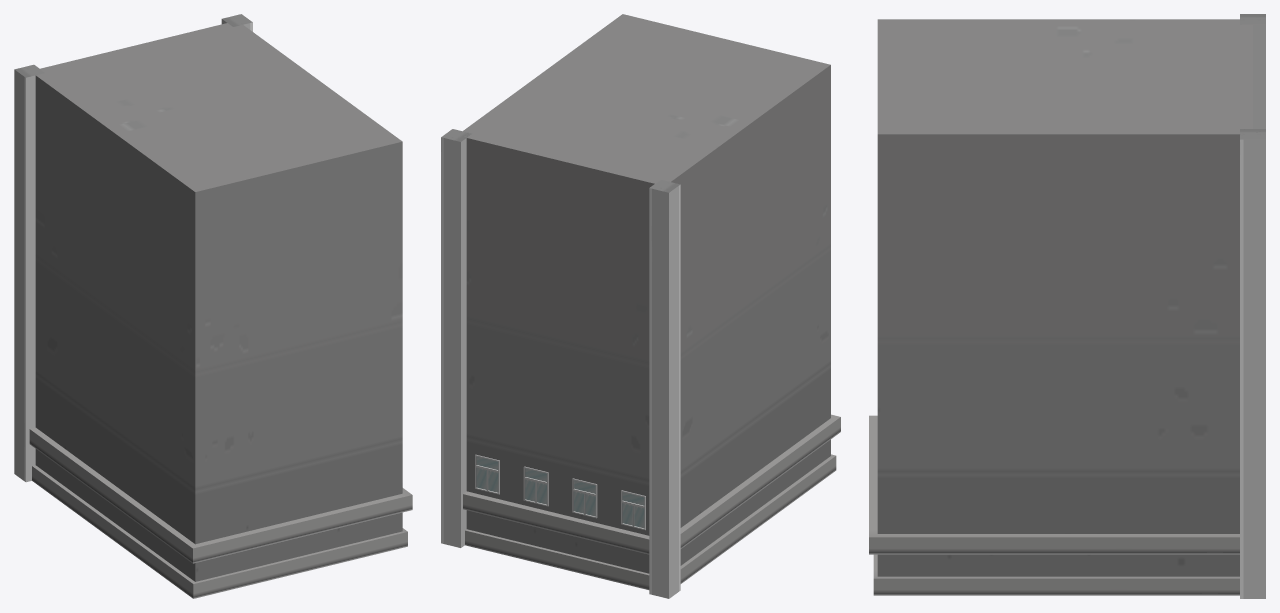
Rendered from School.fbx.
3 views of the same model, side by side, from view 1: azimuth 30°, elevation 25°; view 2: azimuth 150°, elevation 25°; view 3: azimuth 270°, elevation 25° (orthographic). The views are drawn at different scales.
Visible parts, largest first — view 1: 학교, 기둥.001, 하단.001, 하단; view 2: 학교, 기둥.001, 기둥, 하단.001, 하단, Cube.004; view 3: 학교, 기둥, 하단.001, 하단, 기둥.001.
Boxes of the visible parts, left/top/right/bottom form: 학교: left=35, top=23, right=402, bottom=581; 기둥.001: left=14, top=64, right=44, bottom=482; 하단.001: left=29, top=427, right=412, bottom=563; 하단: left=32, top=465, right=407, bottom=598; 학교: left=459, top=14, right=830, bottom=573; 기둥.001: left=649, top=180, right=680, bottom=598; 기둥: left=441, top=129, right=471, bottom=547; 하단.001: left=463, top=414, right=840, bottom=554; 하단: left=465, top=454, right=836, bottom=589; Cube.004: left=475, top=454, right=645, bottom=530; 학교: left=877, top=19, right=1252, bottom=576; 기둥: left=1240, top=129, right=1265, bottom=598; 하단.001: left=869, top=415, right=1239, bottom=554; 하단: left=873, top=554, right=1239, bottom=595; 기둥.001: left=1240, top=14, right=1265, bottom=128.
Bounding box in the file's own units: 2300 × 3915 × 3066.
